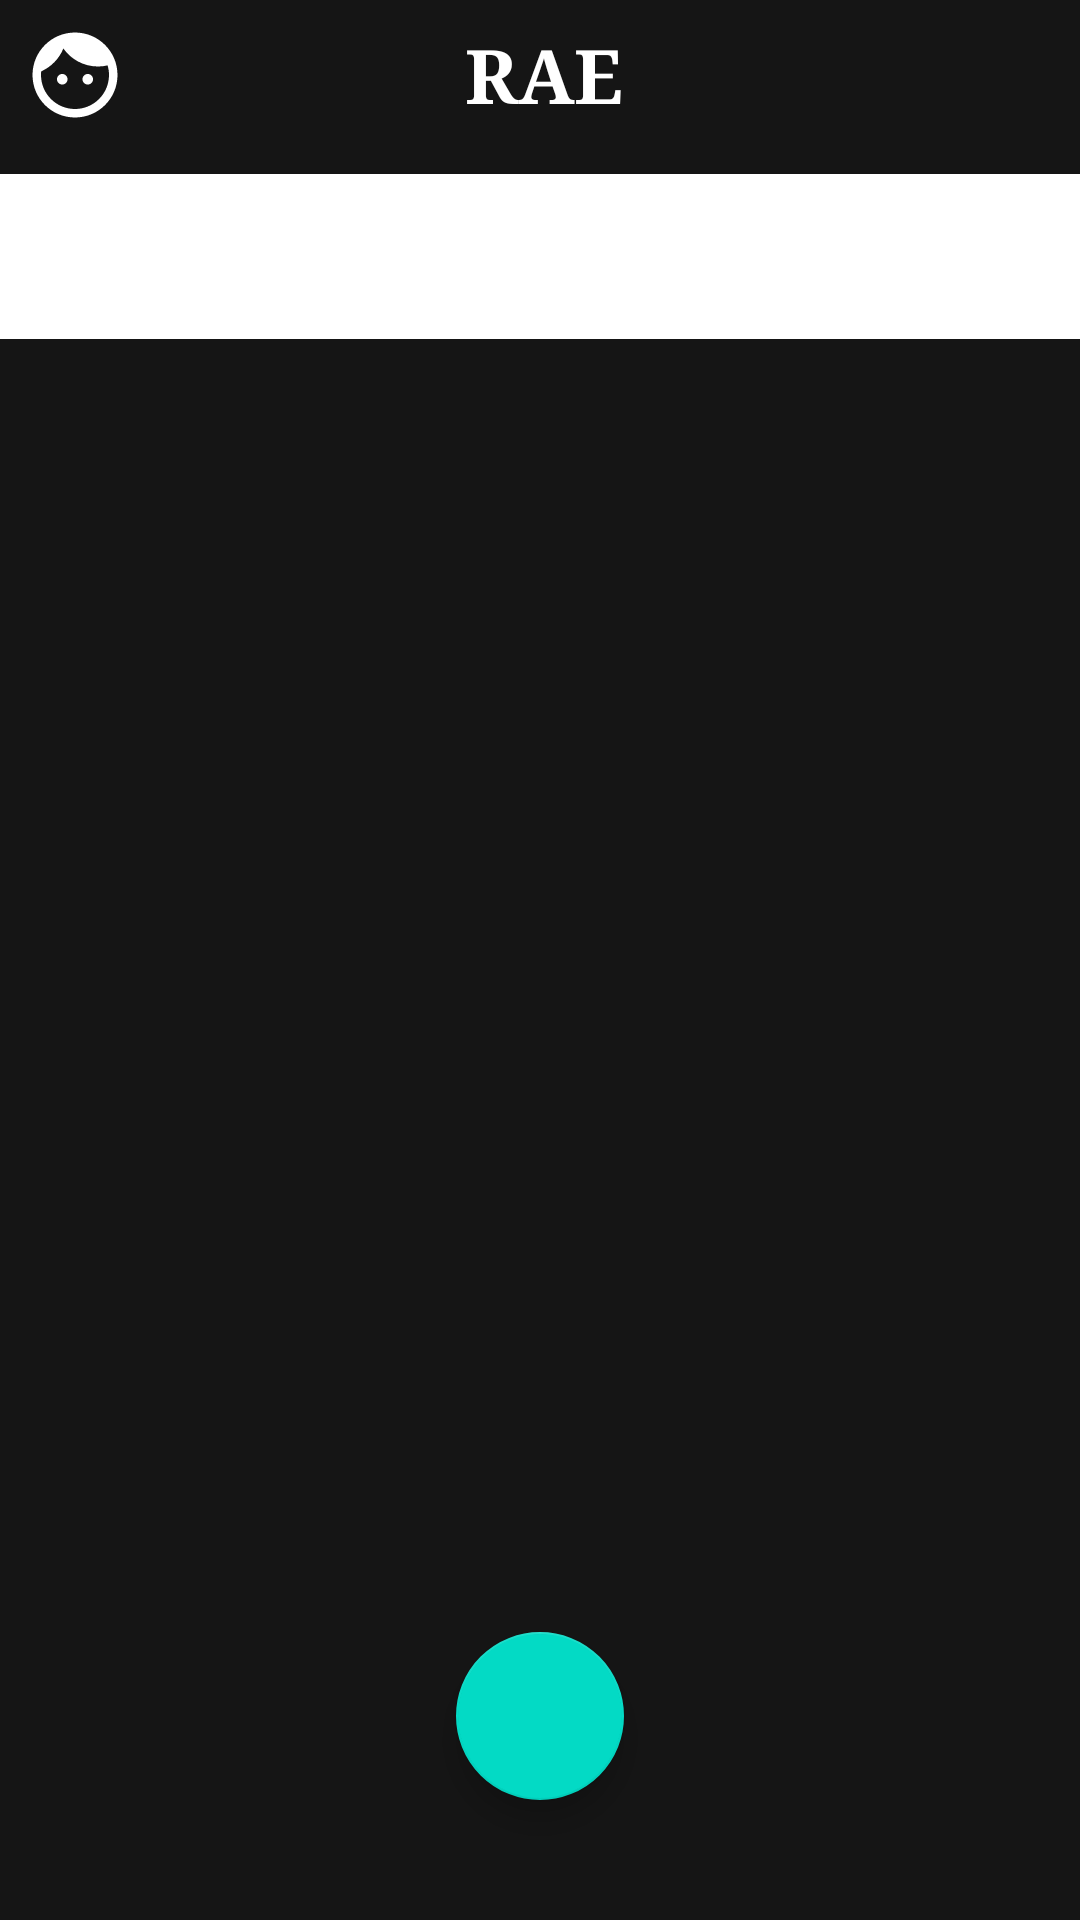

Named icons in this screenshot (1080x1920) and their centers, (x,y):
Profile: (75,75)
